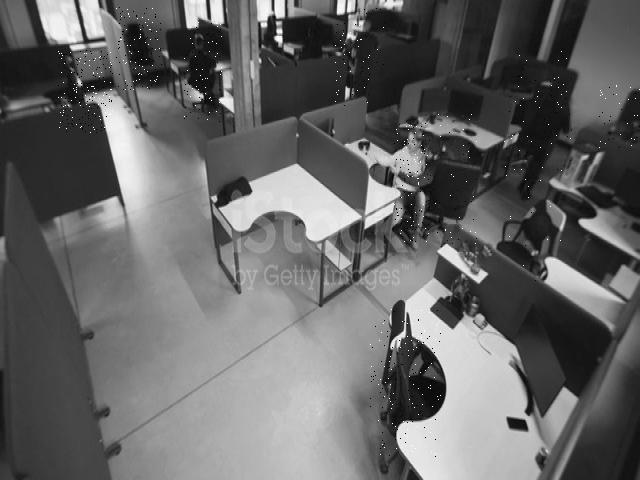empty chair: (370, 309, 441, 457), (502, 171, 564, 282), (58, 50, 113, 133), (116, 7, 162, 90), (503, 69, 530, 184), (598, 85, 640, 148)
occupiedchair: (429, 114, 479, 248), (394, 121, 434, 244), (184, 20, 222, 122), (335, 22, 370, 106)
